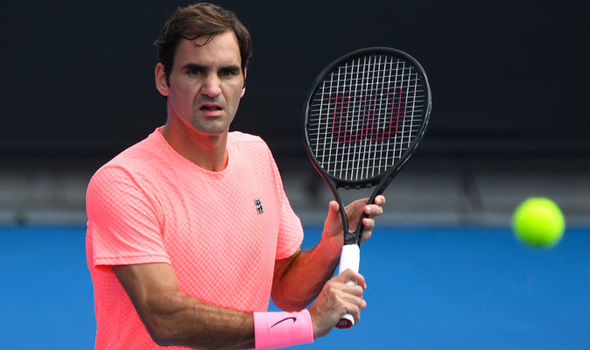tennis ball: (506, 194, 568, 252)
tennis player: (79, 3, 347, 349)
